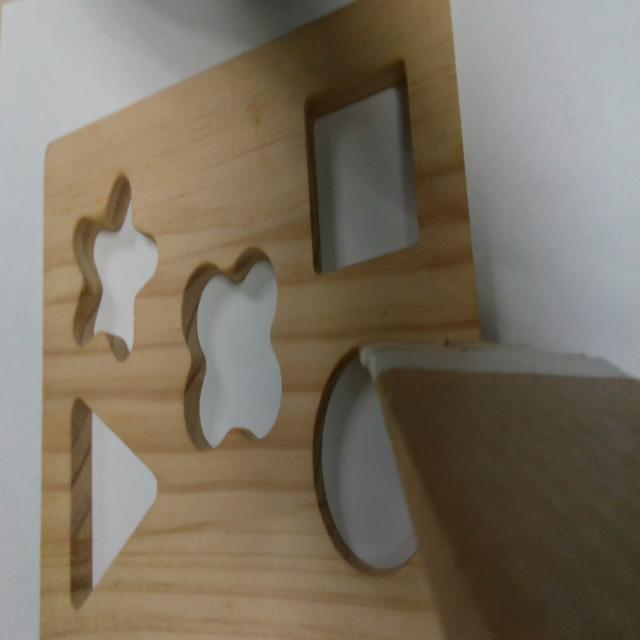circle: (316, 346, 414, 567)
flower: (179, 244, 281, 454)
square: (306, 57, 422, 270)
star: (70, 172, 157, 357)
triangle: (70, 394, 160, 611)
